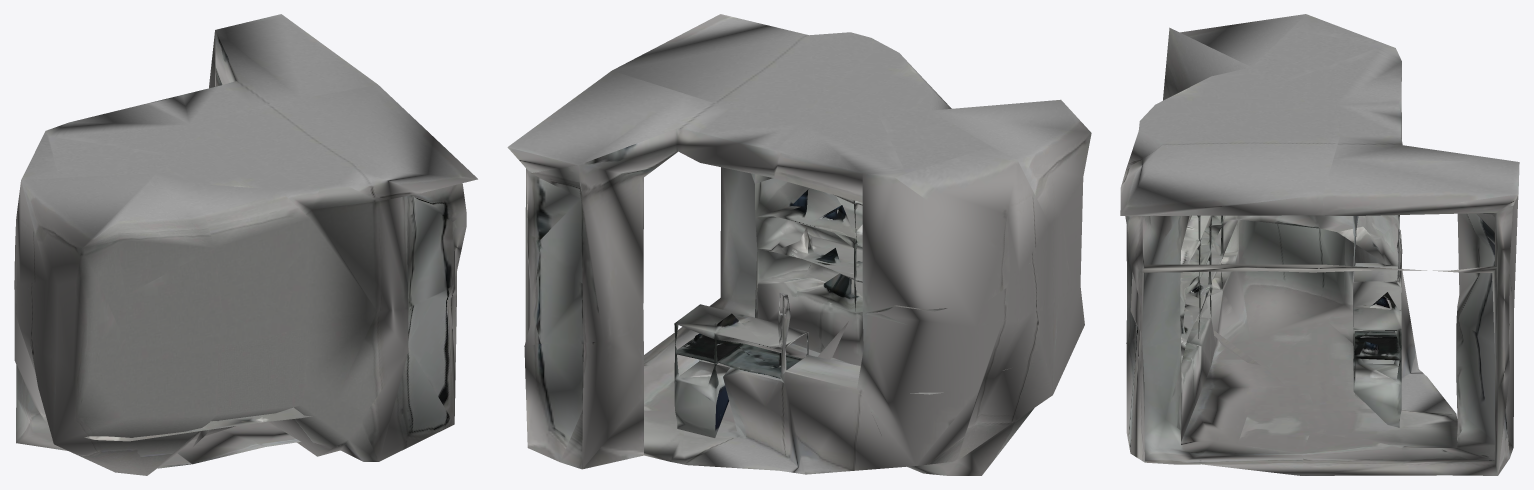
Rendered from frontelc_lod1.glb.
3 renders of one model, left to right at view 1: azimuth 30°, elevation 25°; view 2: azimuth 150°, elevation 25°; view 3: azimuth 270°, elevation 25°, orthographic. The views are drawn at different scales.
Visible parts, largest first — view 1: tripo_node_19cd6529-3a9a-4625-a380-2c778788e2b9; view 2: tripo_node_19cd6529-3a9a-4625-a380-2c778788e2b9; view 3: tripo_node_19cd6529-3a9a-4625-a380-2c778788e2b9.
Boxes of the visible parts, bbox=[...] form: tripo_node_19cd6529-3a9a-4625-a380-2c778788e2b9: bbox=[14, 14, 477, 475]; tripo_node_19cd6529-3a9a-4625-a380-2c778788e2b9: bbox=[507, 14, 1091, 475]; tripo_node_19cd6529-3a9a-4625-a380-2c778788e2b9: bbox=[1120, 14, 1519, 475].
Bounding box in the file's own units: 2.87 × 2.1 × 2.65.
1 material, 1 textured.
